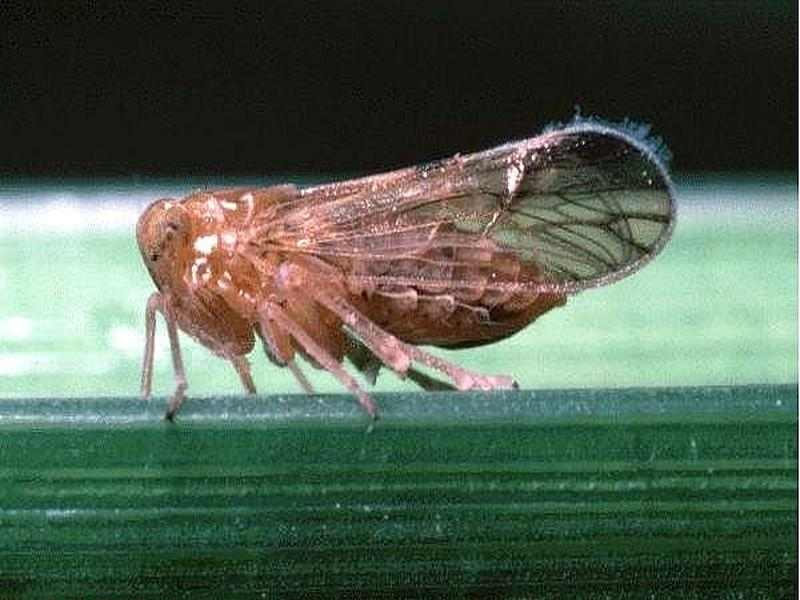Brown_plant_leafhopper: (123, 114, 699, 419)
